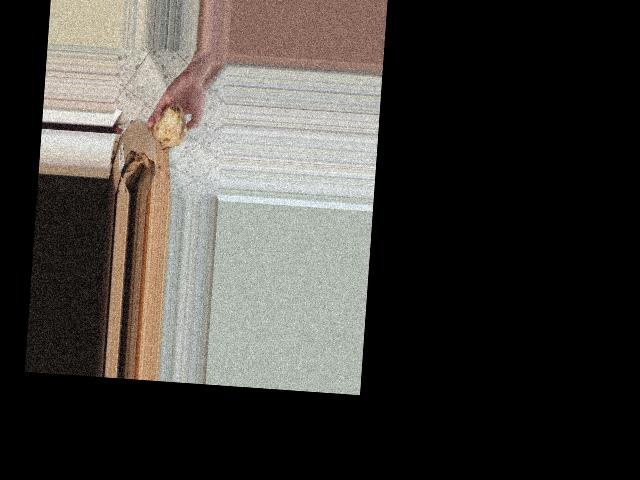onion: (149, 100, 191, 151)
